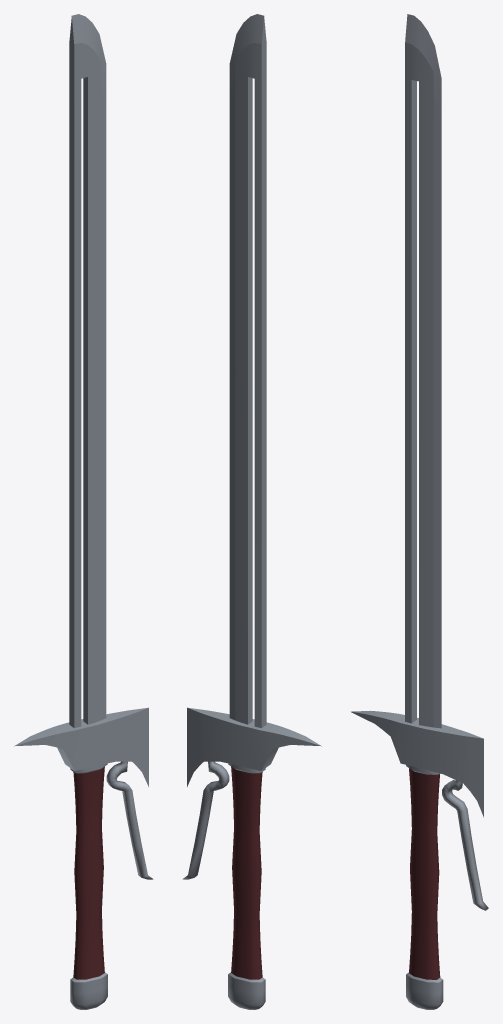
Rendered from sword_091225.fbx.
3 views of the same model, side by side, from view 1: azimuth 30°, elevation 25°; view 2: azimuth 150°, elevation 25°; view 3: azimuth 330°, elevation 25° (orthographic).
Parts seen in each view (by area): view 1: Sword_blade, Sword_hilt, Sword_crossguard, Sword_trigger; view 2: Sword_blade, Sword_hilt, Sword_crossguard, Sword_trigger; view 3: Sword_blade, Sword_hilt, Sword_crossguard, Sword_trigger.
Part boxes in pixels (bbox=[...]): Sword_blade: bbox=[69, 14, 106, 727]; Sword_hilt: bbox=[70, 761, 107, 1009]; Sword_crossguard: bbox=[14, 707, 148, 786]; Sword_trigger: bbox=[106, 761, 153, 879]; Sword_blade: bbox=[229, 14, 266, 727]; Sword_hilt: bbox=[228, 761, 265, 1009]; Sword_crossguard: bbox=[187, 707, 321, 786]; Sword_trigger: bbox=[182, 761, 229, 879]; Sword_blade: bbox=[405, 14, 441, 728]; Sword_hilt: bbox=[406, 765, 443, 1009]; Sword_crossguard: bbox=[351, 710, 483, 817]; Sword_trigger: bbox=[442, 780, 488, 910].
Size of the model in its own units: 151 by 1036 by 18.31.
1 material, 1 textured.
